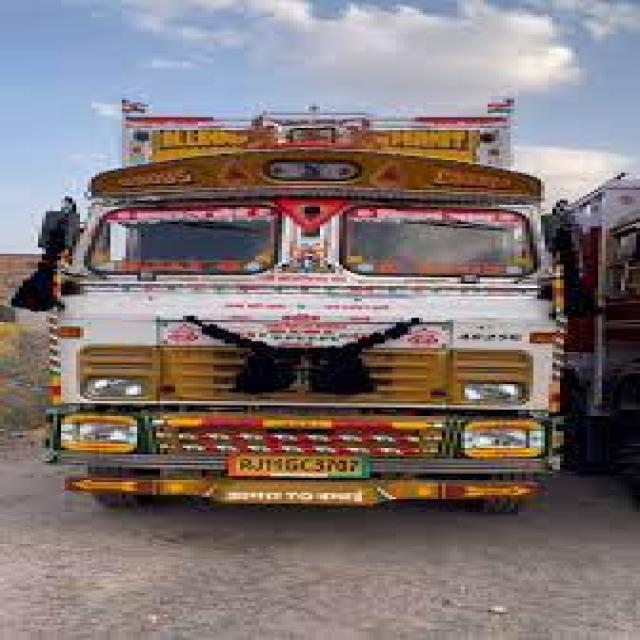Plate: (232, 452, 372, 478)
truck: (34, 100, 578, 523)
